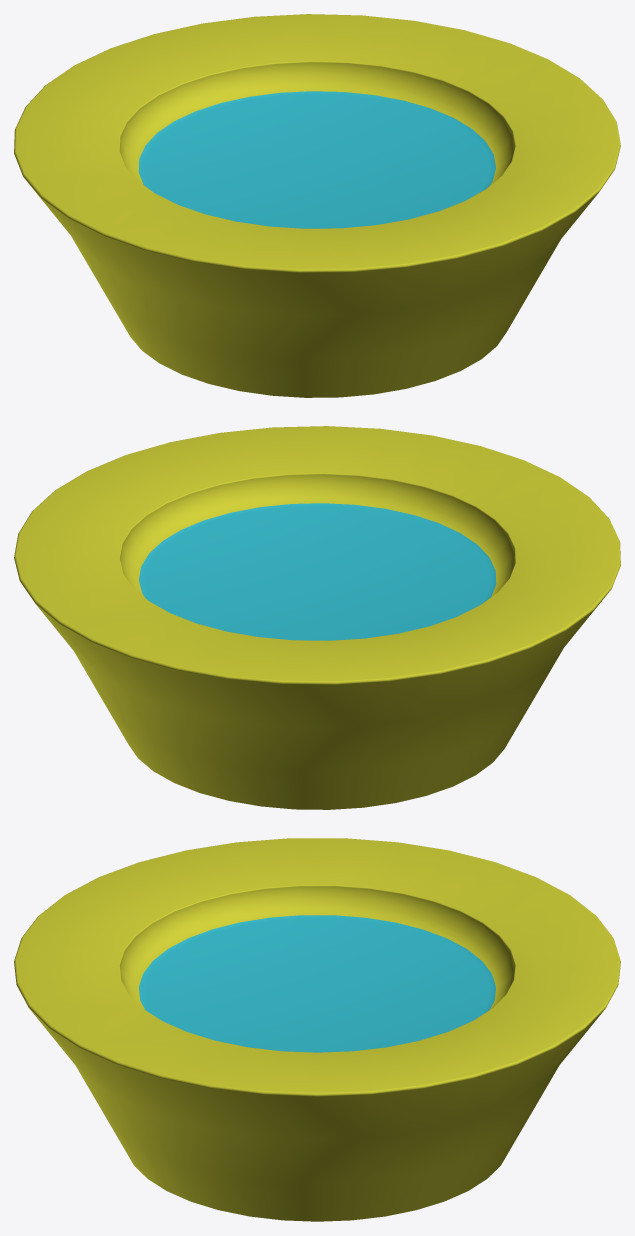
The model's file is toybox_firepit_dish_mesh.fbx.
3 views of the same model, one above another, from view 1: azimuth 30°, elevation 25°; view 2: azimuth 150°, elevation 25°; view 3: azimuth 270°, elevation 25° (orthographic).
Visible parts, largest first — view 1: Open_Disc_Firepit; view 2: Open_Disc_Firepit; view 3: Open_Disc_Firepit.
Part boxes in pixels (box(x1,y1,x2,y2)): Open_Disc_Firepit: box(14, 14, 620, 397); Open_Disc_Firepit: box(14, 426, 620, 809); Open_Disc_Firepit: box(14, 838, 620, 1221).
Size of the model in its own units: 173 by 55.63 by 173.
